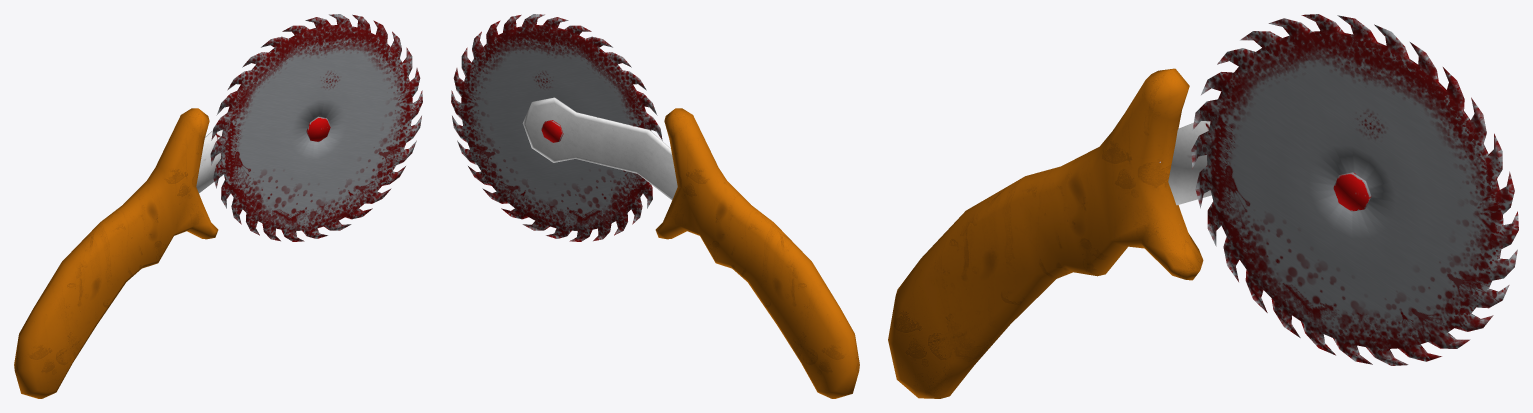
The picture shows the model from 3 angles, left to right: view 1: azimuth 30°, elevation 25°; view 2: azimuth 150°, elevation 25°; view 3: azimuth 330°, elevation 25°; orthographic projection. The views are drawn at different scales.
Parts seen in each view (by area): view 1: lezvie_low, rukoyat_low, derj_low, vtulka_low; view 2: lezvie_low, rukoyat_low, derj_low, vtulka_low; view 3: lezvie_low, rukoyat_low, derj_low, vtulka_low.
Boxes of the visible parts, box(x1,y1,x2,y2) form: lezvie_low: box(210, 14, 422, 241); rukoyat_low: box(14, 108, 218, 398); derj_low: box(196, 130, 223, 193); vtulka_low: box(306, 116, 330, 141); lezvie_low: box(451, 14, 662, 241); rukoyat_low: box(655, 108, 859, 398); derj_low: box(522, 97, 677, 199); vtulka_low: box(541, 120, 563, 142); lezvie_low: box(1191, 14, 1518, 365); rukoyat_low: box(888, 68, 1203, 398); derj_low: box(1168, 121, 1211, 205); vtulka_low: box(1333, 172, 1371, 211).
Bounding box in the file's own units: 300 × 221 × 20.37.
